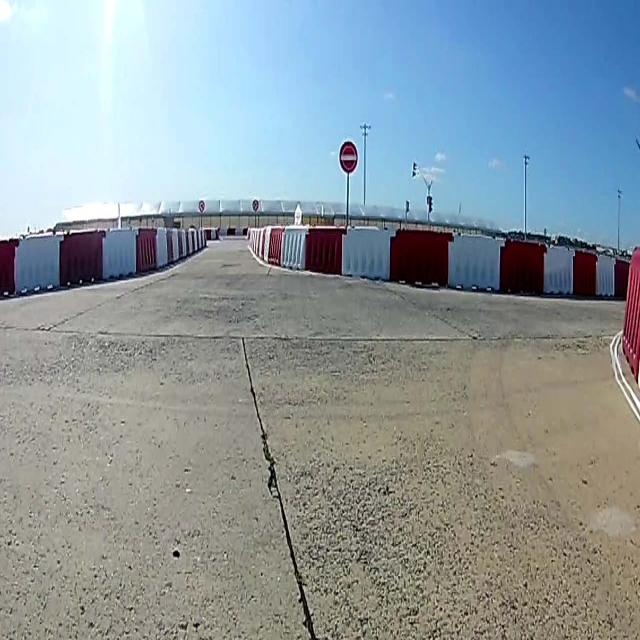girisyok: (342, 143, 356, 173)
